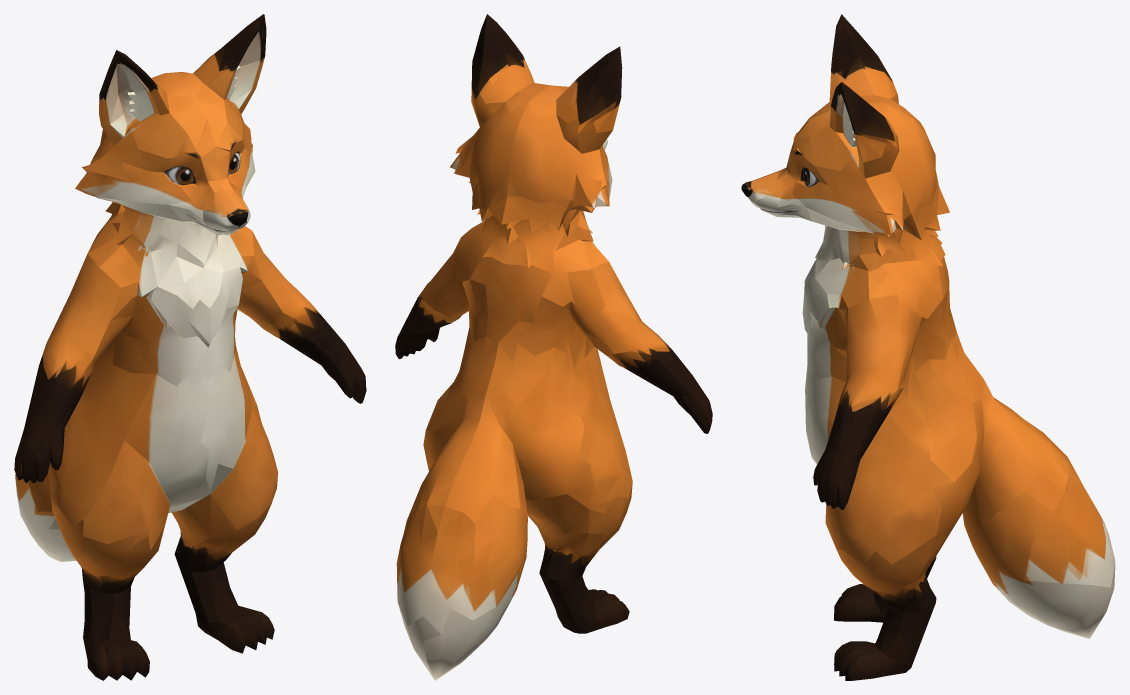
The model's file is fox.glb.
3 views of the same model, side by side, from view 1: azimuth 30°, elevation 25°; view 2: azimuth 150°, elevation 25°; view 3: azimuth 270°, elevation 25° (orthographic). The views are drawn at different scales.
Parts seen in each view (by area): view 1: output_unwrapped; view 2: output_unwrapped; view 3: output_unwrapped.
Part boxes in pixels (x1,y1,x2,y2): output_unwrapped: [14, 14, 366, 680]; output_unwrapped: [395, 14, 712, 680]; output_unwrapped: [741, 14, 1115, 680].
Size of the model in its own units: 1.1 by 1.9 by 1.08.
1 material, 1 textured.
